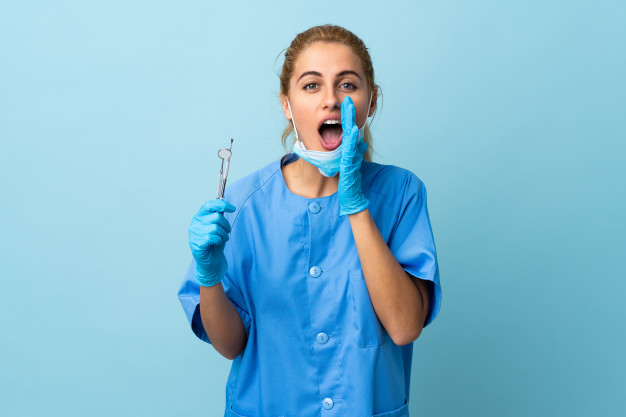mask_weared_incorrect: (278, 51, 380, 183)
